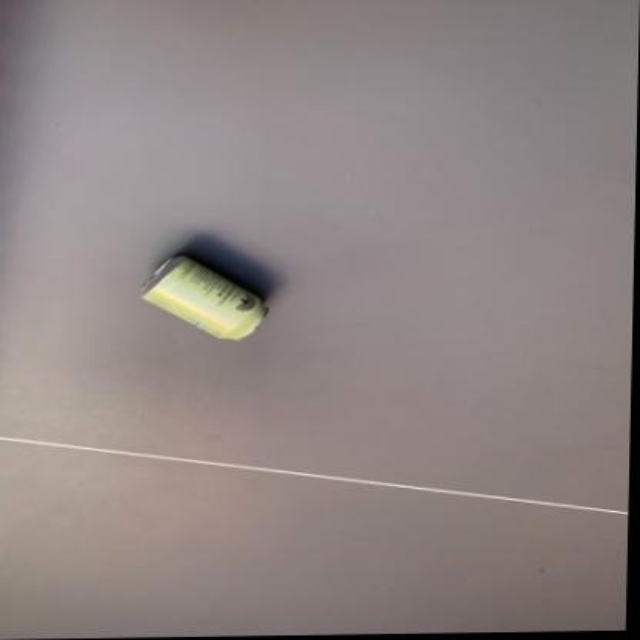trash: (137, 255, 266, 338)
